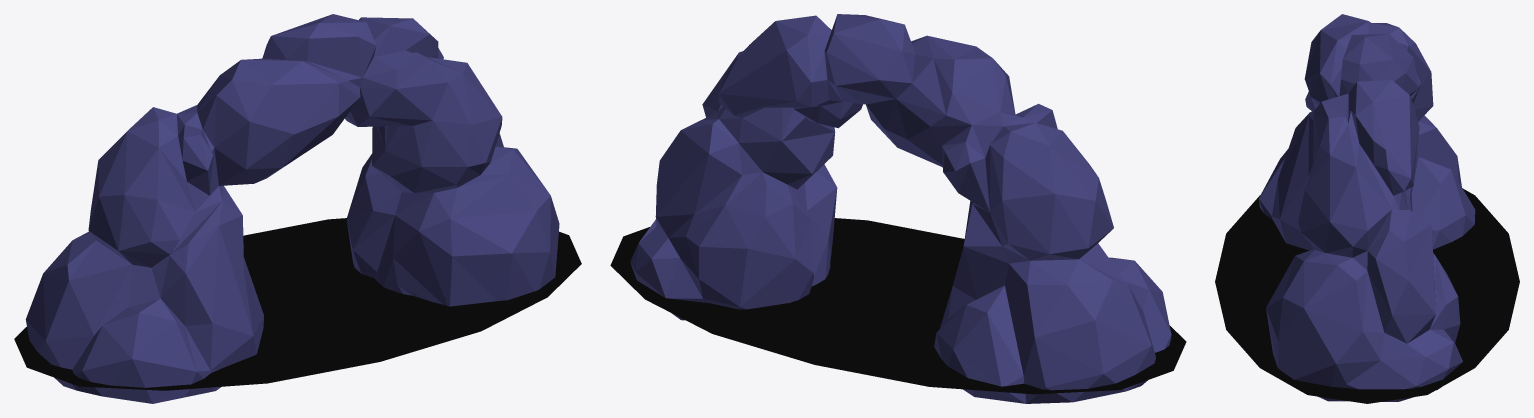
File: Skala3.fbx
3 renders of one model, left to right at view 1: azimuth 30°, elevation 25°; view 2: azimuth 150°, elevation 25°; view 3: azimuth 270°, elevation 25°, orthographic. The views are drawn at different scales.
Visible parts, largest first — view 1: Plane.024; view 2: Plane.024; view 3: Plane.024.
Boxes of the visible parts, x1,y1,x2,y2 form: Plane.024: [14, 14, 581, 403]; Plane.024: [610, 14, 1186, 403]; Plane.024: [1215, 14, 1519, 403].
Bounding box in the file's own units: 1590 × 865 × 838.
